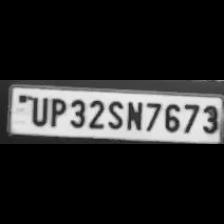2: (86, 97, 104, 129)
3: (66, 96, 86, 128), (199, 102, 219, 134)
6: (161, 100, 181, 132)
7: (180, 100, 198, 134), (142, 99, 160, 131)
N: (124, 98, 142, 132)
P: (47, 95, 67, 127)
S: (104, 97, 124, 130)
U: (26, 94, 48, 126)
